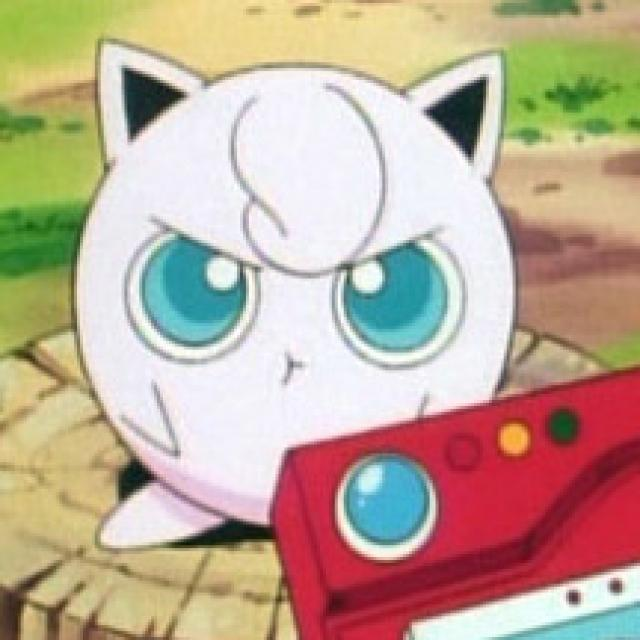Jigglypuff: (51, 21, 534, 541)
